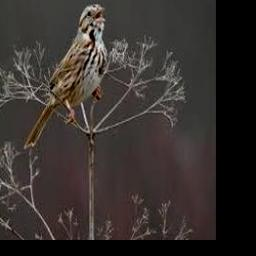Sparrow: (23, 3, 108, 150)
